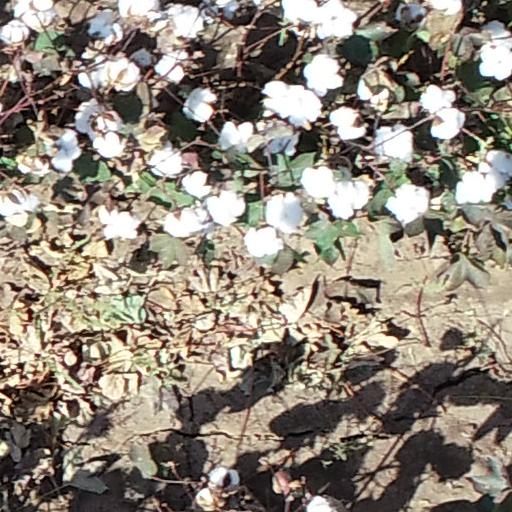Boll: (389, 184, 427, 220), (304, 58, 342, 94), (1, 187, 37, 224), (267, 195, 301, 234), (331, 181, 366, 218), (209, 189, 246, 224), (316, 2, 350, 39), (376, 128, 413, 161), (48, 133, 79, 171), (100, 208, 139, 238), (290, 89, 321, 126), (89, 11, 121, 45), (482, 42, 512, 78), (458, 172, 491, 204), (105, 58, 139, 89), (299, 167, 334, 197), (169, 8, 204, 38), (164, 208, 204, 234), (182, 88, 215, 119), (266, 83, 295, 118), (119, 1, 159, 26), (485, 149, 511, 187), (221, 123, 254, 152), (148, 148, 181, 177), (283, 1, 316, 29), (157, 53, 190, 81), (248, 230, 282, 255), (94, 133, 126, 158), (434, 109, 463, 136), (25, 2, 56, 26), (90, 110, 123, 132), (80, 61, 109, 86), (182, 172, 211, 196), (423, 87, 452, 110), (211, 469, 239, 492), (18, 153, 49, 172), (1, 22, 27, 44)
